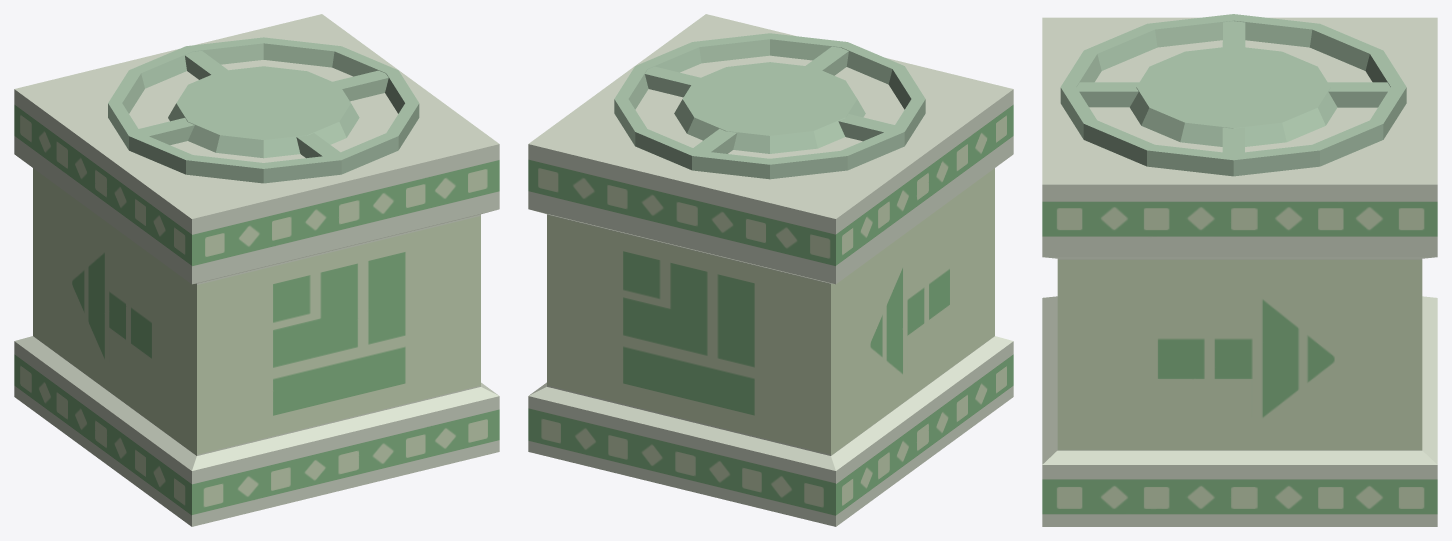
The model's file is move.fbx.
3 renders of one model, left to right at view 1: azimuth 30°, elevation 25°; view 2: azimuth 150°, elevation 25°; view 3: azimuth 270°, elevation 25°, orthographic. The views are drawn at different scales.
Parts seen in each view (by area): view 1: polySurface135; view 2: polySurface135; view 3: polySurface135.
Boxes of the visible parts, x1=… form: polySurface135: x1=14, y1=14, x2=499, y2=526; polySurface135: x1=528, y1=14, x2=1013, y2=526; polySurface135: x1=1042, y1=14, x2=1437, y2=526.
Bounding box in the file's own units: 2 × 2 × 2.
